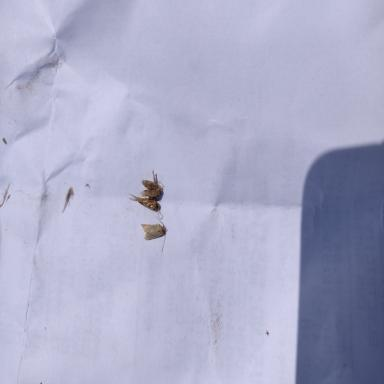pbw: (141, 216, 166, 252), (128, 192, 164, 217), (140, 169, 164, 194), (140, 190, 160, 198)
